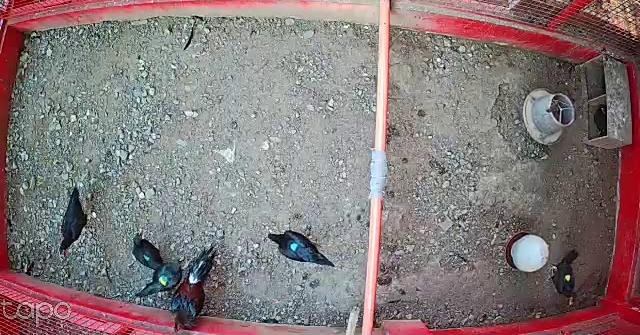Chicken: (54, 183, 102, 257), (264, 225, 336, 272), (134, 252, 190, 301), (546, 250, 583, 309), (130, 229, 166, 272)
Rooster: (168, 242, 224, 331)
Saddle_Color_Blue: (290, 241, 301, 252)
Saddle_Color_Yellow: (564, 272, 572, 283)
Saddle_Color_YellowGreen: (158, 275, 171, 285)
